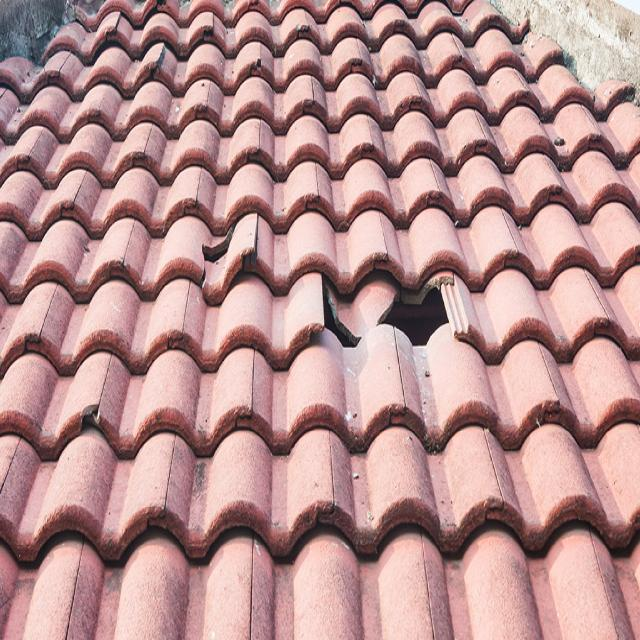damage: (186, 176, 281, 317), (313, 271, 464, 359)
